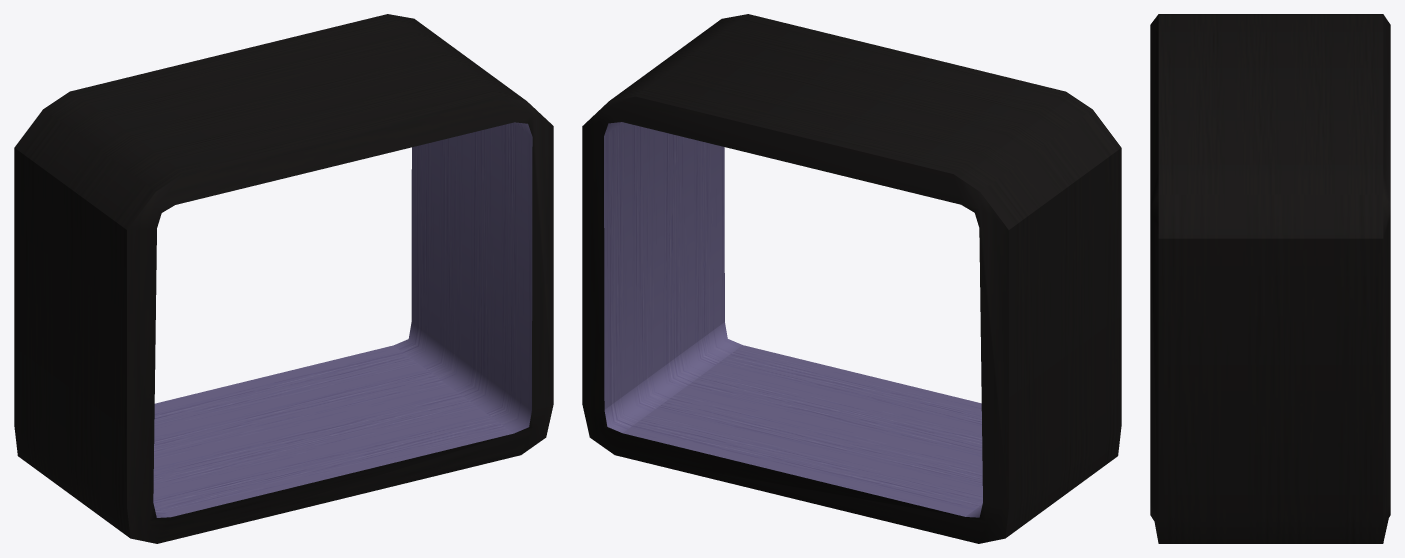
File: Wall_Shelf_02_D.FBX
3 renders of one model, left to right at view 1: azimuth 30°, elevation 25°; view 2: azimuth 150°, elevation 25°; view 3: azimuth 270°, elevation 25°, orthographic.
Visible parts, largest first — view 1: Wall_Shelf_02; view 2: Wall_Shelf_02; view 3: Wall_Shelf_02.
Boxes of the visible parts, left/top/right/bottom form: Wall_Shelf_02: left=14, top=14, right=553, bottom=543; Wall_Shelf_02: left=582, top=14, right=1121, bottom=543; Wall_Shelf_02: left=1150, top=14, right=1390, bottom=543.
Size of the model in its own units: 120 by 98.08 by 58.85.
